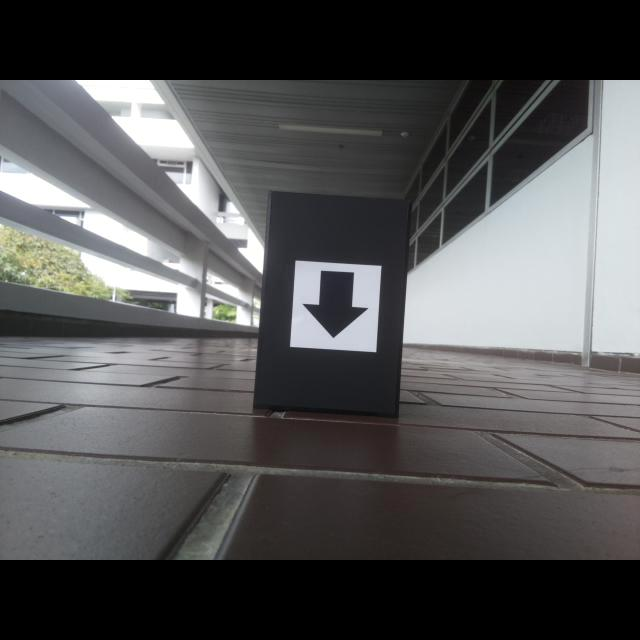DOWN: (300, 270, 369, 340)
